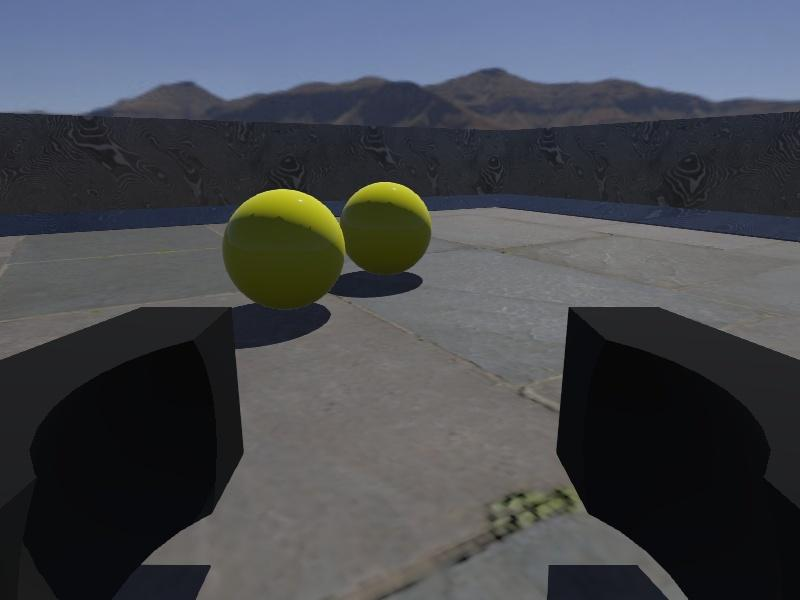yellow ball: (222, 188, 346, 309)
